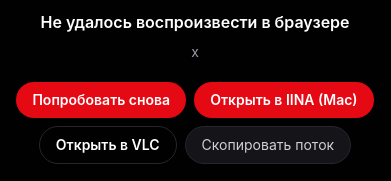
Test: экран ошибки › повторный клик отсчитывает две секунды заново
This screenshot has width=391, height=181.
Click the button "Скопировать поток": click(268, 145) [185, 126, 351, 164]
Wait 1500 ms
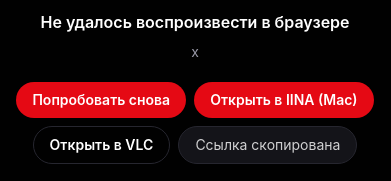
Click the button "Ссылка скопирована": click(268, 145) [178, 126, 357, 164]
Wait 2100 ms
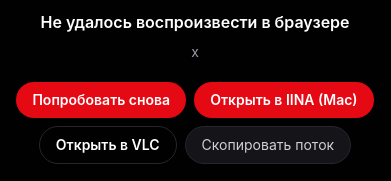
Expected: the button "Скопировать поток" is shown, [185, 126, 351, 164]
